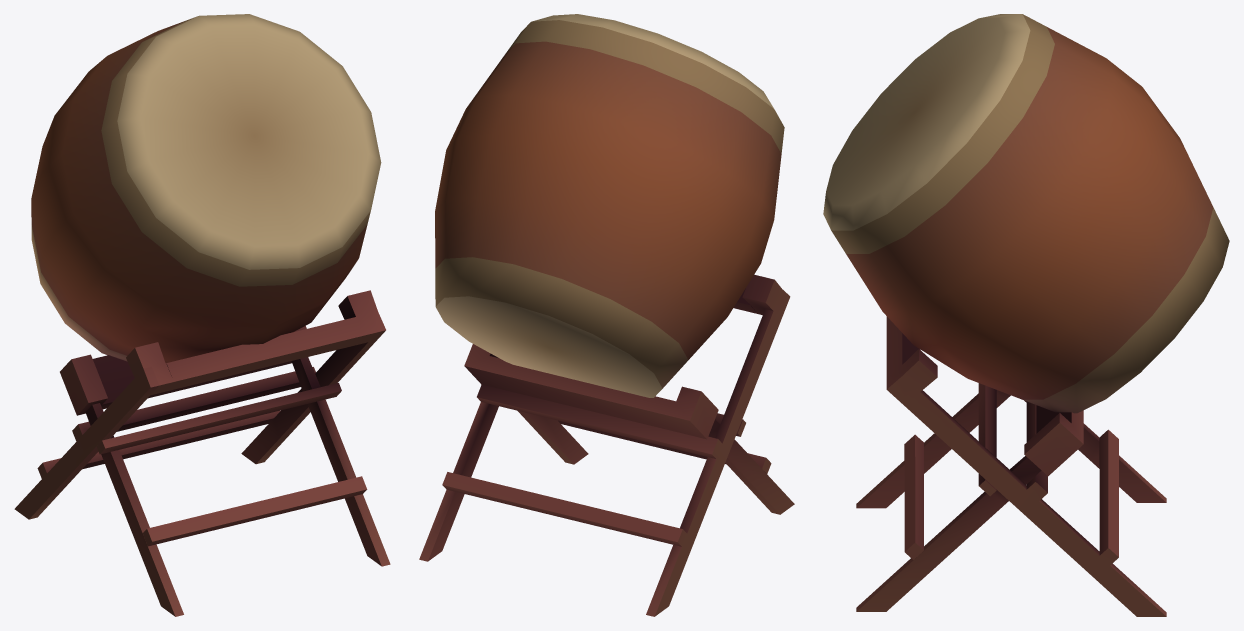
Rendered from human-music-taiko-drum_v1.glb.
3 renders of one model, left to right at view 1: azimuth 30°, elevation 25°; view 2: azimuth 150°, elevation 25°; view 3: azimuth 270°, elevation 25°, orthographic. The views are drawn at different scales.
Visible parts, largest first — view 1: Taiko Drum; view 2: Taiko Drum; view 3: Taiko Drum.
Part boxes in pixels (x1=…): Taiko Drum: x1=14, y1=14, x2=390, y2=616; Taiko Drum: x1=419, y1=14, x2=794, y2=616; Taiko Drum: x1=823, y1=14, x2=1229, y2=616.
Size of the model in its own units: 0.4161 by 0.7 by 0.4885.
